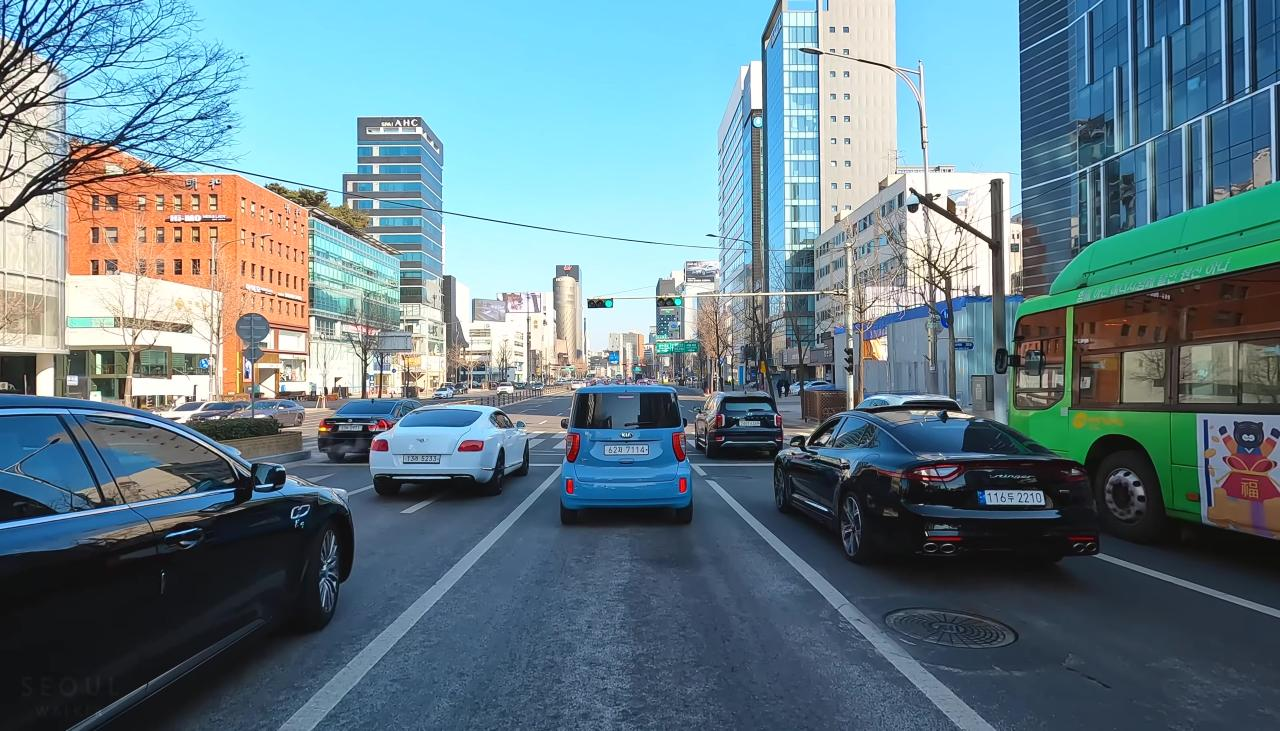Green Light: (604, 300, 612, 308), (675, 298, 682, 306)
